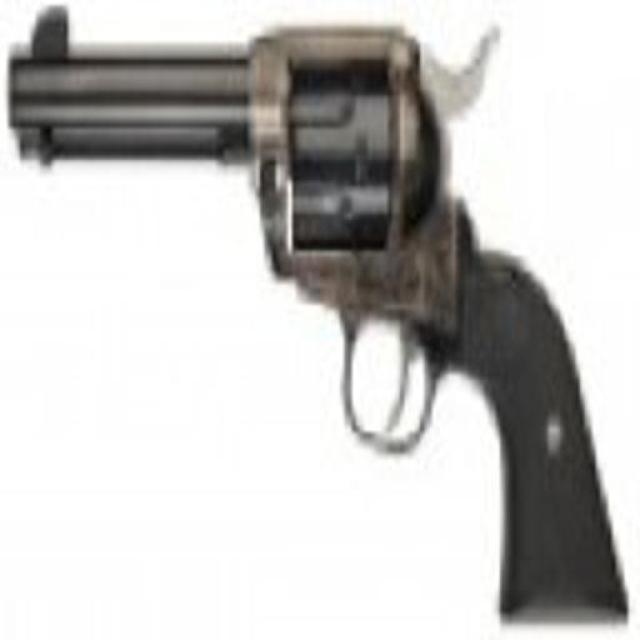pistol: (11, 5, 620, 612)
